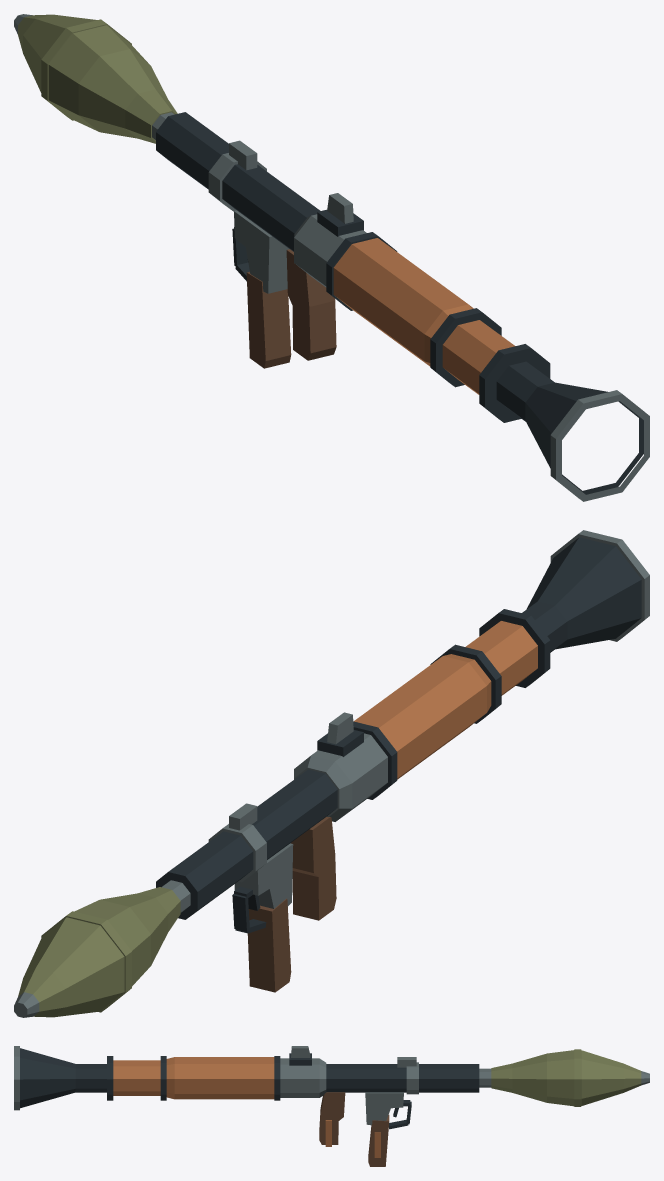
Rendered from RPG-7.glb.
The picture shows the model from 3 angles, top to bottom: view 1: azimuth 30°, elevation 25°; view 2: azimuth 150°, elevation 25°; view 3: azimuth 270°, elevation 25°; orthographic projection. The views are drawn at different scales.
Visible parts, largest first — view 1: Warhead_12, Heat_shield_1, Launch_tube_0, Forward_grip_15, Pistol_grip_17, Rear_flare_5, Rear_rim_7, Trigger_housing_16, Breech_9, Shield_band_2, Shield_band_3, Warhead_band_13 (+3 smaller); view 2: Warhead_12, Heat_shield_1, Launch_tube_0, Rear_flare_5, Forward_grip_15, Breech_9, Pistol_grip_17, Trigger_housing_16, Shield_band_2, Rear_rim_7, Warhead_band_13, Shield_band_3 (+3 smaller); view 3: Heat_shield_1, Warhead_12, Launch_tube_0, Rear_flare_5, Breech_9, Forward_grip_15, Trigger_housing_16, Pistol_grip_17, Warhead_band_13, Rear_rim_7, Forward_collar_10, Shield_band_2 (+6 smaller).
Part boxes in pixels (x1,y1,x2,y2): Warhead_12: (18,14,177,143); Heat_shield_1: (333,238,515,394); Launch_tube_0: (156,112,554,421); Forward_grip_15: (286,249,336,360); Pistol_grip_17: (246,271,291,368); Rear_flare_5: (525,382,643,494); Rear_rim_7: (550,390,649,501); Trigger_housing_16: (234,210,289,293); Breech_9: (294,214,366,287); Shield_band_2: (479,344,550,422); Shield_band_3: (430,308,501,387); Warhead_band_13: (41,19,131,120); Warhead_12: (18,887,180,1017); Heat_shield_1: (354,621,537,779); Launch_tube_0: (156,601,567,919); Rear_flare_5: (526,537,641,649); Forward_grip_15: (290,816,336,920); Breech_9: (294,733,387,821); Pistol_grip_17: (247,898,291,992); Trigger_housing_16: (234,843,293,908); Shield_band_2: (479,609,550,687); Rear_rim_7: (550,530,649,641); Warhead_band_13: (41,911,131,1012); Shield_band_3: (430,644,501,723); Heat_shield_1: (113,1057,274,1099); Warhead_12: (491,1050,641,1106); Launch_tube_0: (75,1064,479,1092); Rear_flare_5: (20,1048,75,1108); Breech_9: (280,1058,326,1097); Forward_grip_15: (319,1092,345,1144); Trigger_housing_16: (365,1092,403,1125); Pistol_grip_17: (368,1115,389,1166); Warhead_band_13: (574,1049,581,1106); Rear_rim_7: (14,1046,19,1110); Forward_collar_10: (406,1062,418,1094); Shield_band_2: (107,1056,113,1100).
Bounding box in the file's own units: 0.17 × 0.3681 × 1.82.
